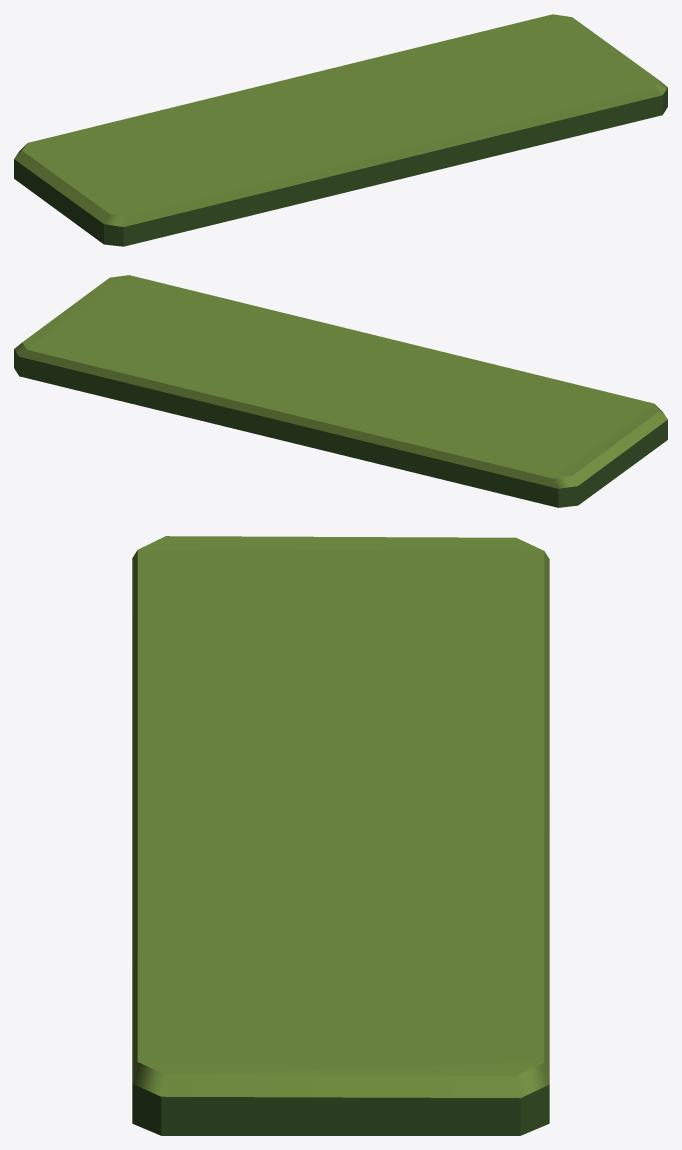
Rendered from gf_board_a.glb.
The picture shows the model from 3 angles, top to bottom: view 1: azimuth 30°, elevation 25°; view 2: azimuth 150°, elevation 25°; view 3: azimuth 270°, elevation 25°; orthographic projection. The views are drawn at different scales.
Parts seen in each view (by area): view 1: gf_board_a; view 2: gf_board_a; view 3: gf_board_a.
Boxes of the visible parts, bbox=[...] form: gf_board_a: bbox=[14, 14, 667, 246]; gf_board_a: bbox=[14, 275, 667, 507]; gf_board_a: bbox=[132, 536, 549, 1135].
Bounding box in the file's own units: 1.35 × 0.064 × 0.4326.
